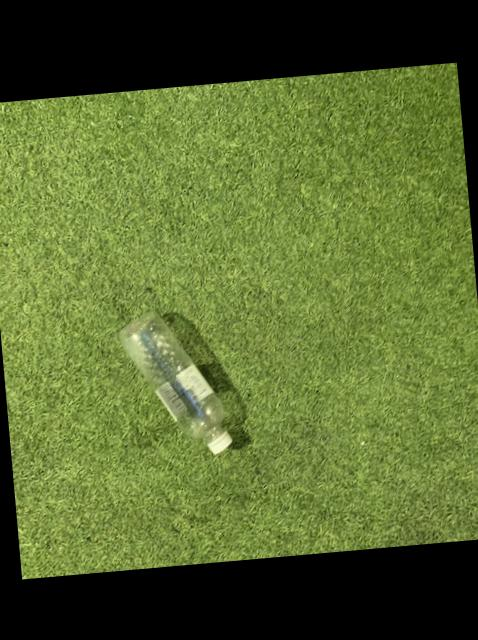plastic: (117, 310, 229, 451)
